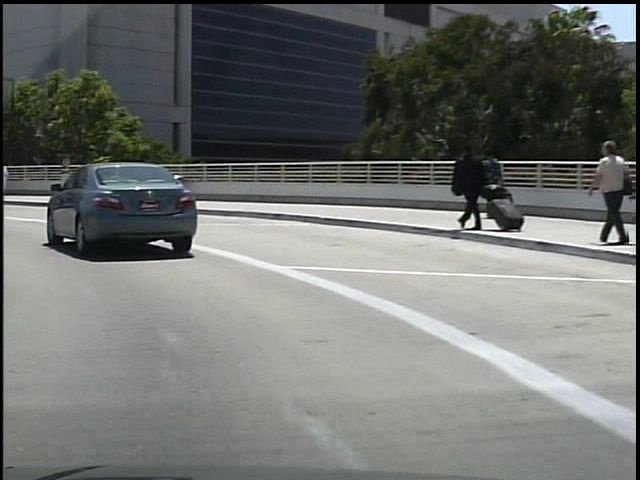person: (582, 137, 628, 250), (447, 138, 488, 229), (473, 144, 508, 219)
